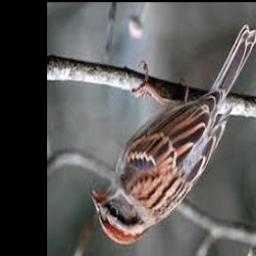Sparrow: (89, 23, 256, 245)
